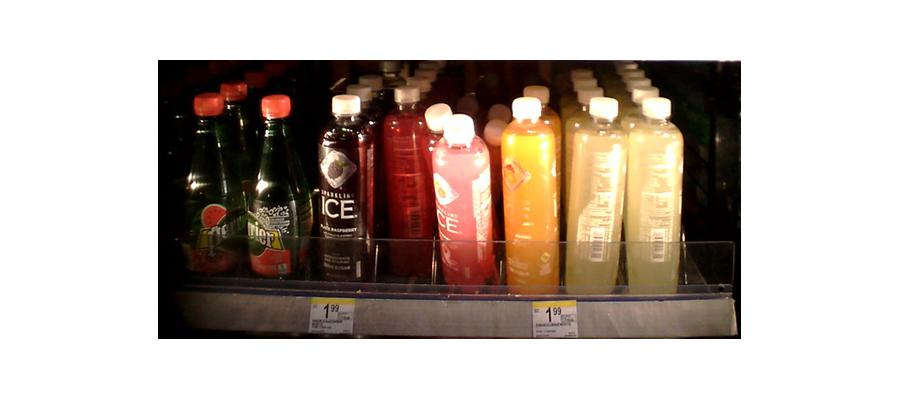bottle: (499, 97, 563, 293), (313, 94, 377, 284), (625, 93, 684, 291), (565, 100, 624, 296), (182, 98, 242, 281), (434, 113, 496, 290), (248, 97, 306, 286), (381, 87, 434, 278)
